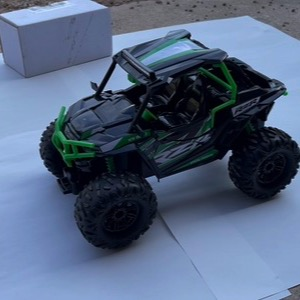polaris: (39, 29, 299, 251)
